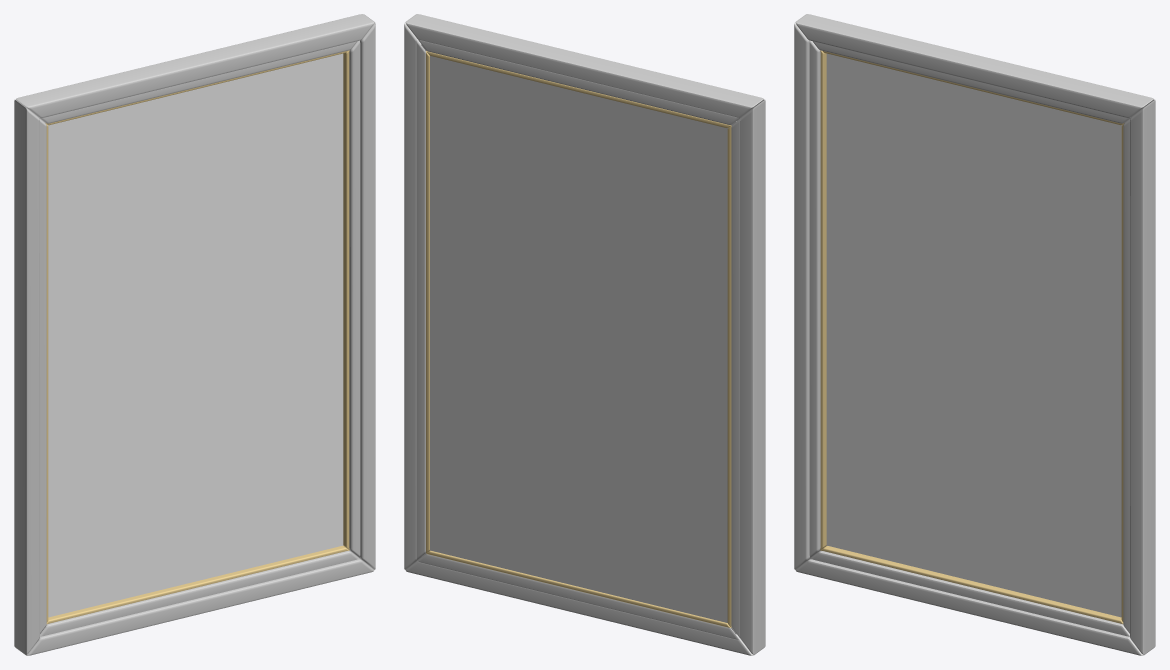
The model's file is SM_Mirror_Wall.fbx.
3 renders of one model, left to right at view 1: azimuth 30°, elevation 25°; view 2: azimuth 150°, elevation 25°; view 3: azimuth 330°, elevation 25°, orthographic.
Visible parts, largest first — view 1: SM_Mirror_Wall; view 2: SM_Mirror_Wall; view 3: SM_Mirror_Wall.
Part boxes in pixels (x1,y1,x2,y2): SM_Mirror_Wall: (14,14,375,655); SM_Mirror_Wall: (404,14,765,655); SM_Mirror_Wall: (794,14,1155,655).
Size of the model in its own units: 60 by 90 by 4.
